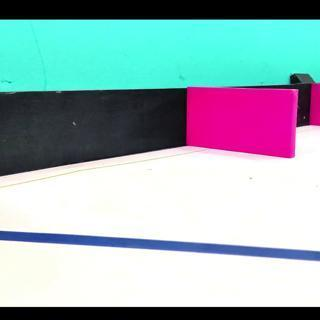xparking: (192, 96, 294, 156), (314, 87, 318, 126)
